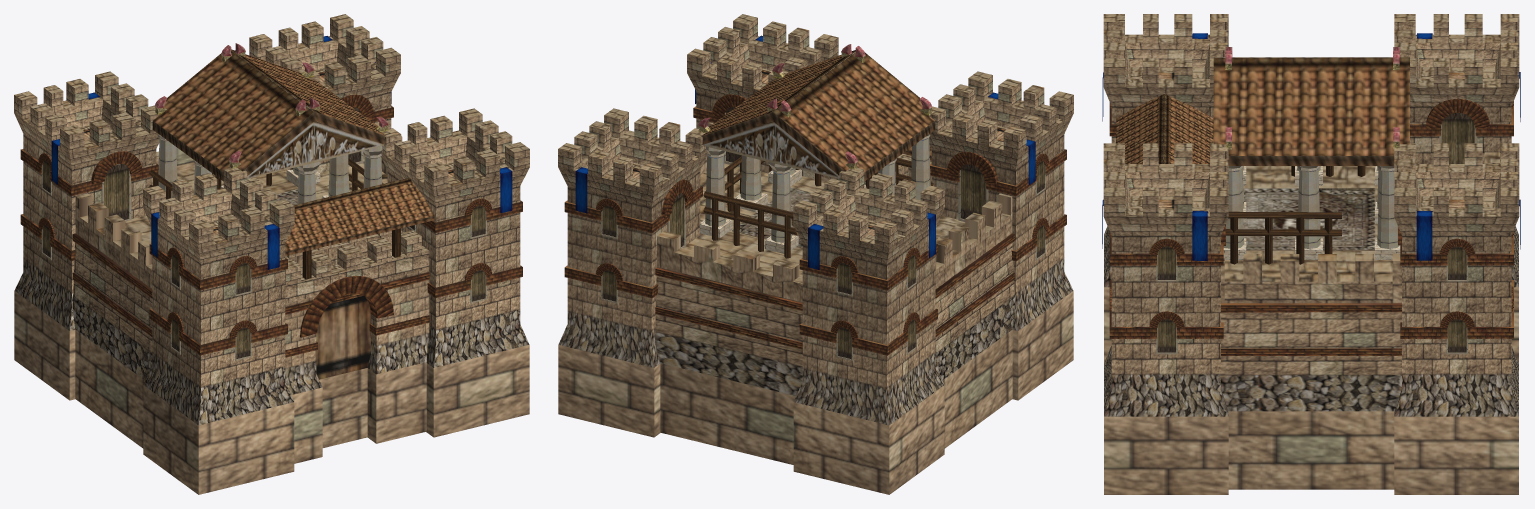
Rendered from fortress.dae.
3 renders of one model, left to right at view 1: azimuth 30°, elevation 25°; view 2: azimuth 150°, elevation 25°; view 3: azimuth 270°, elevation 25°, orthographic. The views are drawn at different scales.
Parts seen in each view (by area): view 1: fortress; view 2: fortress; view 3: fortress.
Boxes of the visible parts, left/top/right/bottom form: fortress: left=14, top=14, right=529, bottom=494; fortress: left=558, top=14, right=1073, bottom=494; fortress: left=1102, top=14, right=1520, bottom=494.
Bounding box in the file's own units: 27.9 × 26.86 × 25.14.
